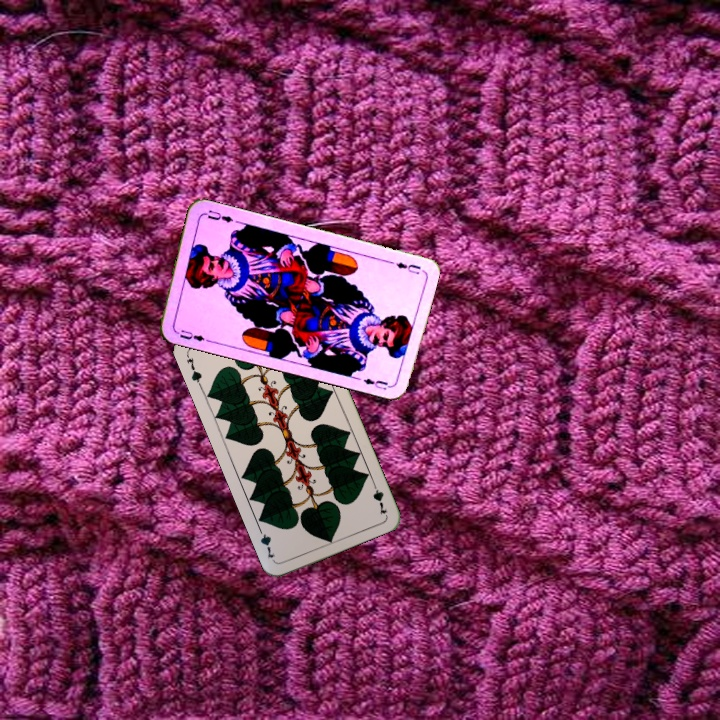EU: (176, 326, 211, 345), (392, 258, 423, 277)
G7: (368, 477, 390, 517), (182, 350, 204, 389)
